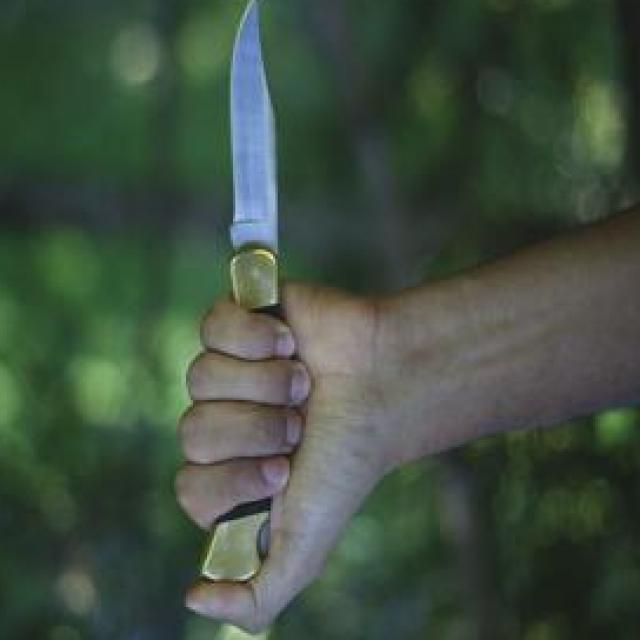knife: (167, 0, 315, 468)
